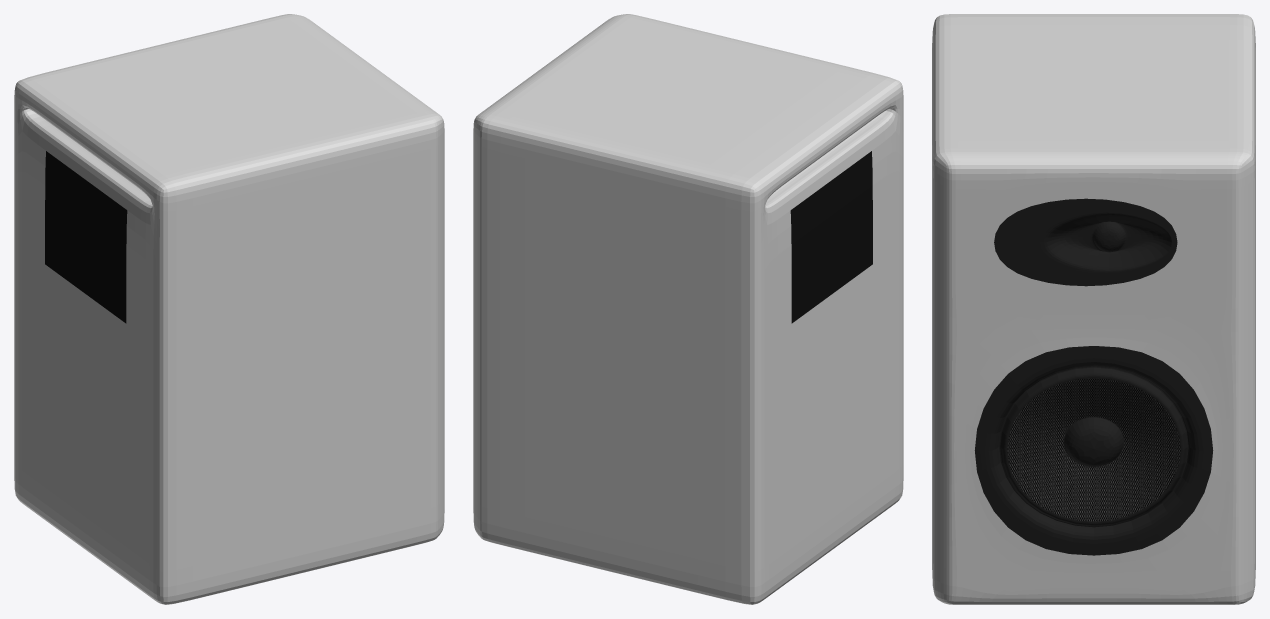
Rendered from speakers 3 secondary.glb.
3 renders of one model, left to right at view 1: azimuth 30°, elevation 25°; view 2: azimuth 150°, elevation 25°; view 3: azimuth 270°, elevation 25°, orthographic. The views are drawn at different scales.
Visible parts, largest first — view 1: Cube.003; view 2: Cube.003; view 3: Cube.003.
Part boxes in pixels (bbox=[...]): Cube.003: bbox=[14, 14, 444, 604]; Cube.003: bbox=[473, 14, 903, 604]; Cube.003: bbox=[932, 14, 1255, 604].
Bounding box in the file's own units: 7.77 × 10.75 × 7.
Materials: 4 (1 with a texture image).
